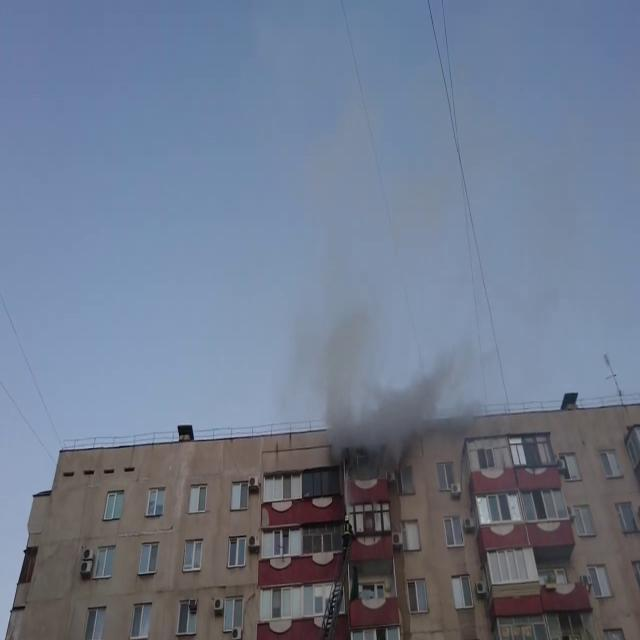Smoke: (264, 272, 482, 465)
